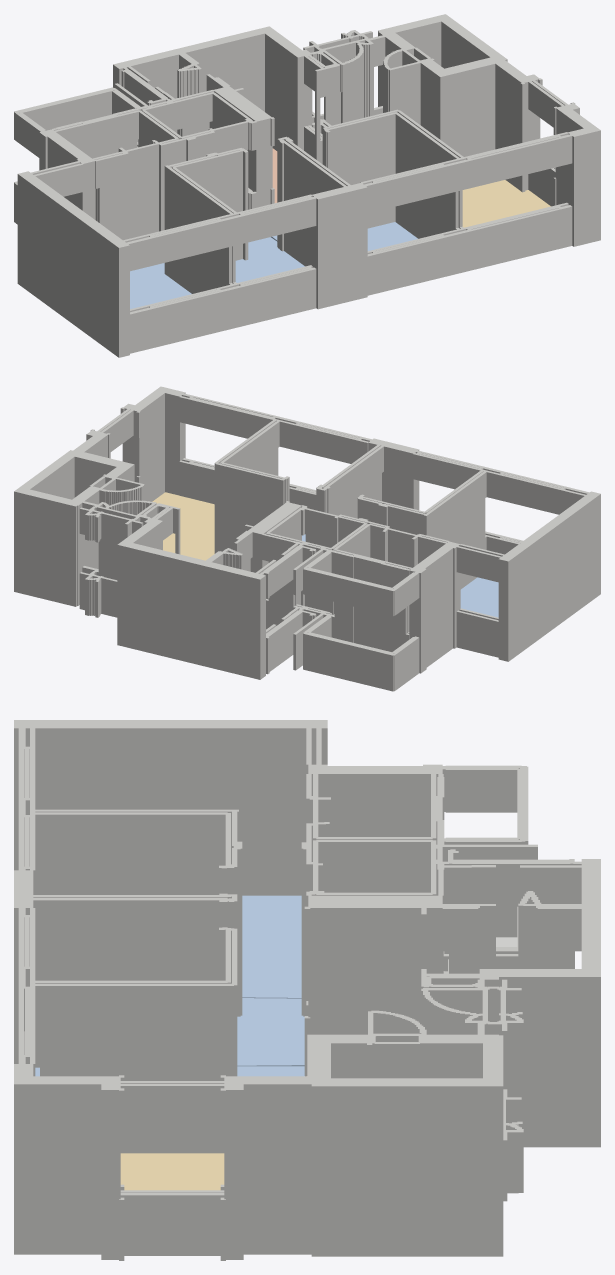
The picture shows the model from 3 angles, top to bottom: view 1: azimuth 30°, elevation 25°; view 2: azimuth 150°, elevation 25°; view 3: azimuth 270°, elevation 25°; orthographic projection. The views are drawn at different scales.
Parts seen in each view (by area): view 1: walls, room:living:9, room:bedroom:7, room:bedroom:3, room:bedroom:8; view 2: walls, room:living:9, room:bedroom:3; view 3: walls, room:bedroom:3, room:bedroom:7, room:living:9, room:bedroom:8.
Boxes of the visible parts, x1,y1,x2,y2 form: walls: [14, 14, 600, 357]; room:living:9: [462, 180, 550, 227]; room:bedroom:7: [235, 237, 304, 282]; room:bedroom:3: [130, 263, 191, 308]; room:bedroom:8: [271, 222, 417, 250]; walls: [14, 386, 600, 691]; room:living:9: [152, 492, 214, 560]; room:bedroom:3: [460, 577, 498, 617]; walls: [14, 720, 600, 1260]; room:bedroom:3: [242, 895, 301, 998]; room:bedroom:7: [237, 998, 304, 1066]; room:living:9: [120, 1153, 224, 1190]; room:bedroom:8: [35, 1066, 304, 1076].
Size of the model in its own units: 13.07 by 2.8 by 8.75.
